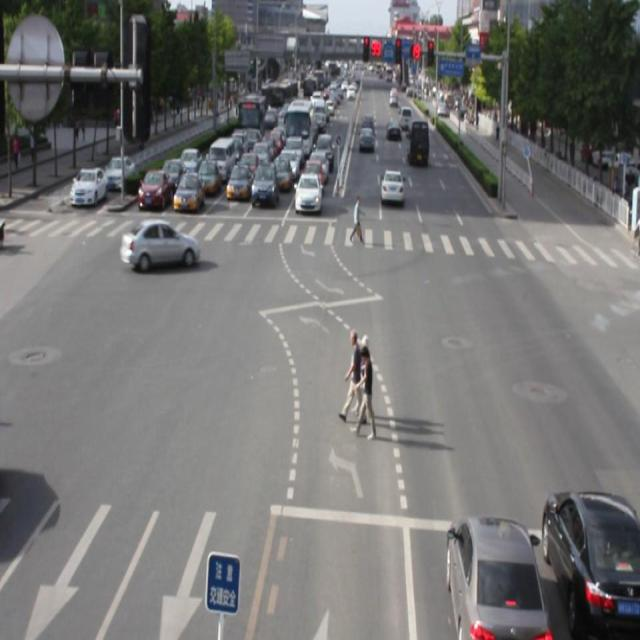car: (535, 493, 640, 640), (442, 516, 541, 640), (121, 218, 200, 270)
